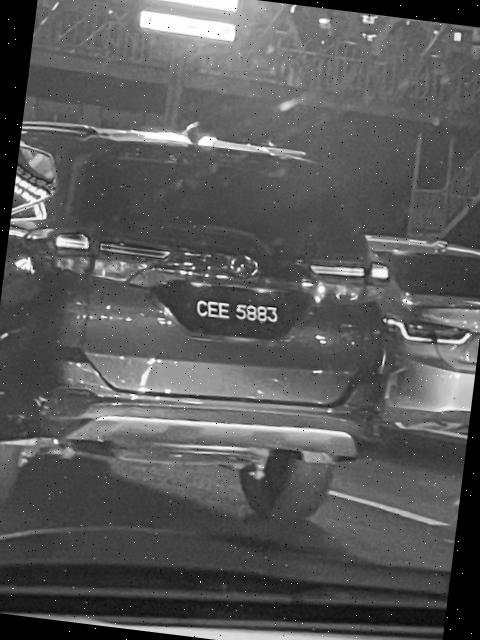License_Plate: (177, 285, 299, 341)
car: (1, 106, 418, 541)
